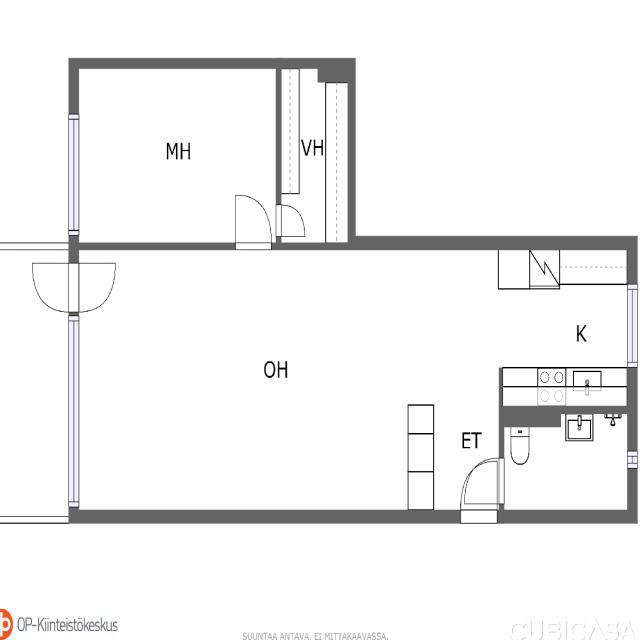door: (436, 180, 477, 250), (462, 460, 498, 522), (69, 263, 115, 311), (34, 263, 80, 311), (465, 458, 505, 503), (427, 196, 456, 227)
